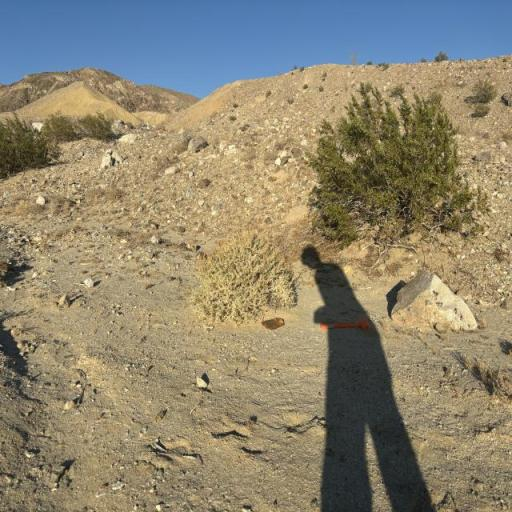mallet: (317, 312, 375, 338)
